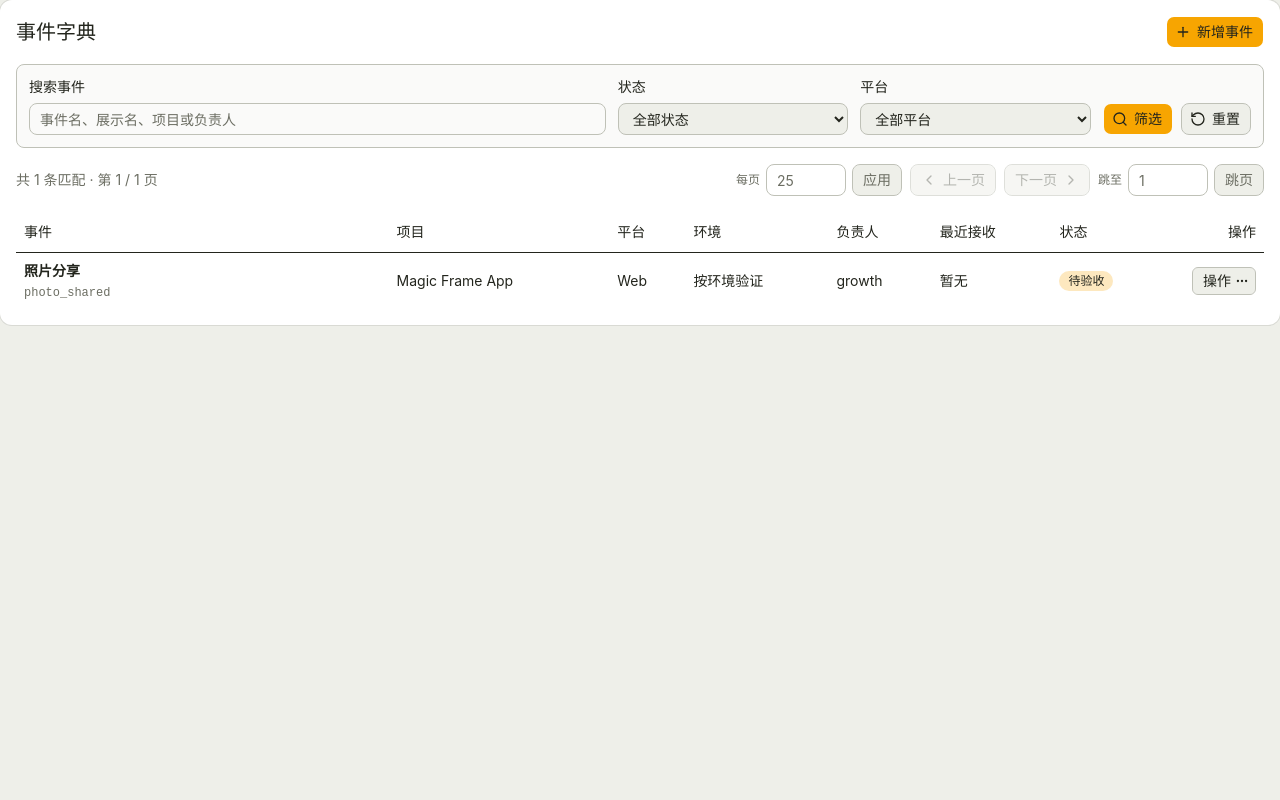
Test: GovernanceEventDictionary › opens an edit form from the row operation menu
This screenshot has width=1280, height=800.
Click the button with aria-label "操作 photo_shared" at [1224, 280], box [1192,266,1256,294]
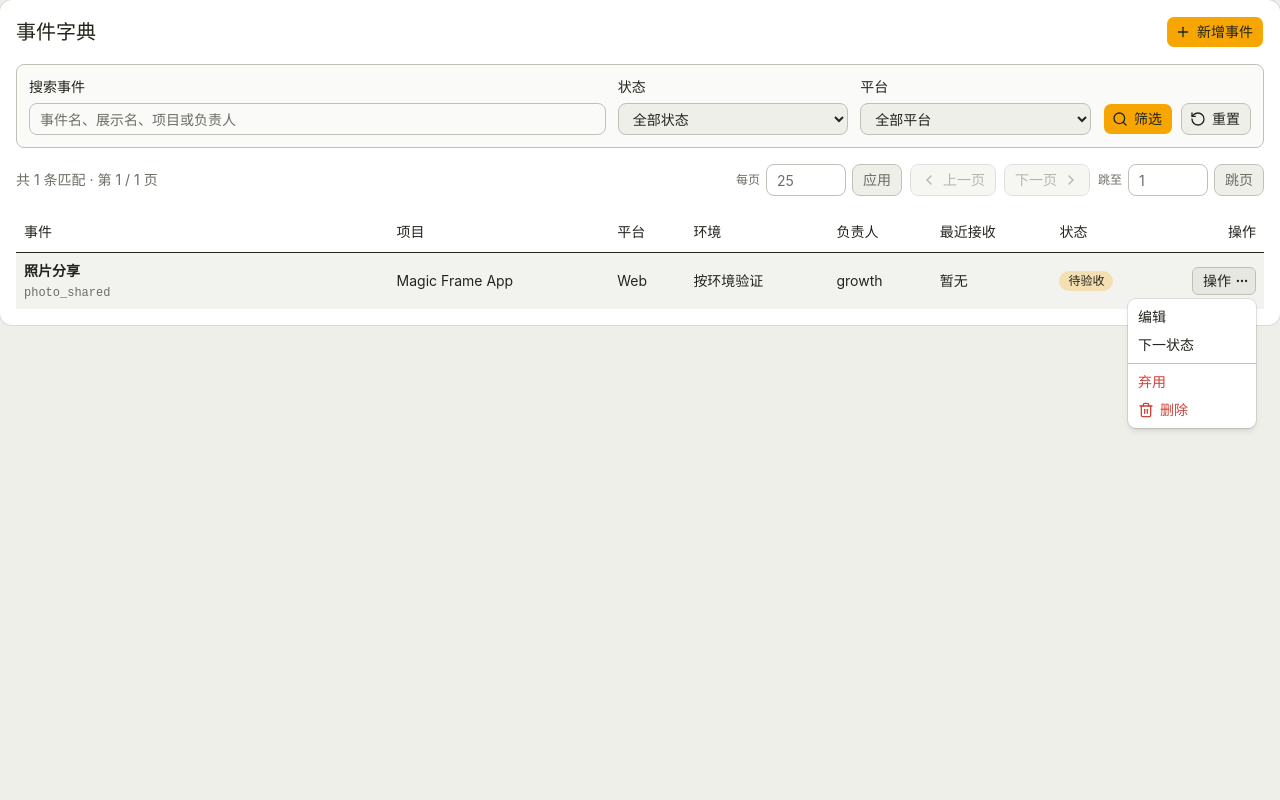
Expected: the menu item "编辑" is shown
Click the menu item "编辑" at [1152, 316], box [1138,308,1166,325]
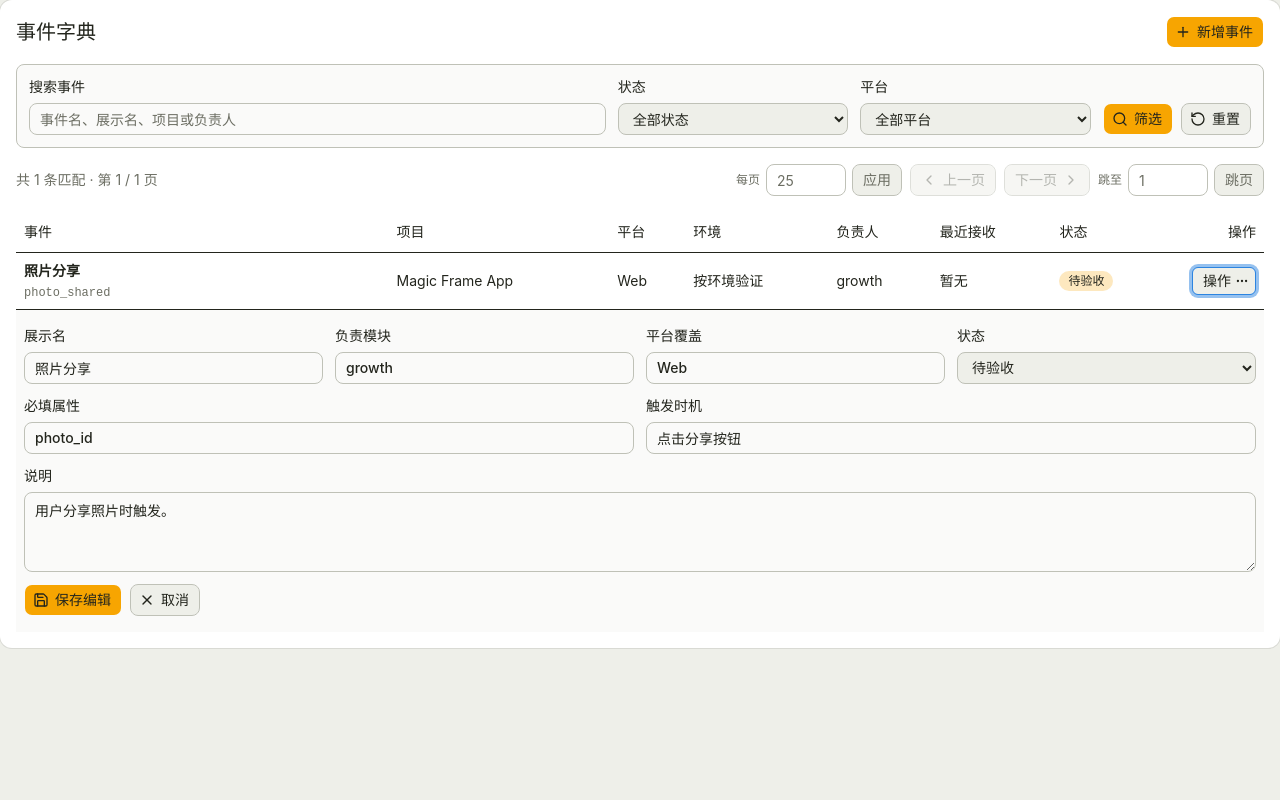
Expected: the text "保存编辑" is shown, [24,584,122,616]
Expected: the field labelled "展示名" is shown, [24,352,323,384]
Expected: the text "触发时机" is shown, [646,396,702,414]
